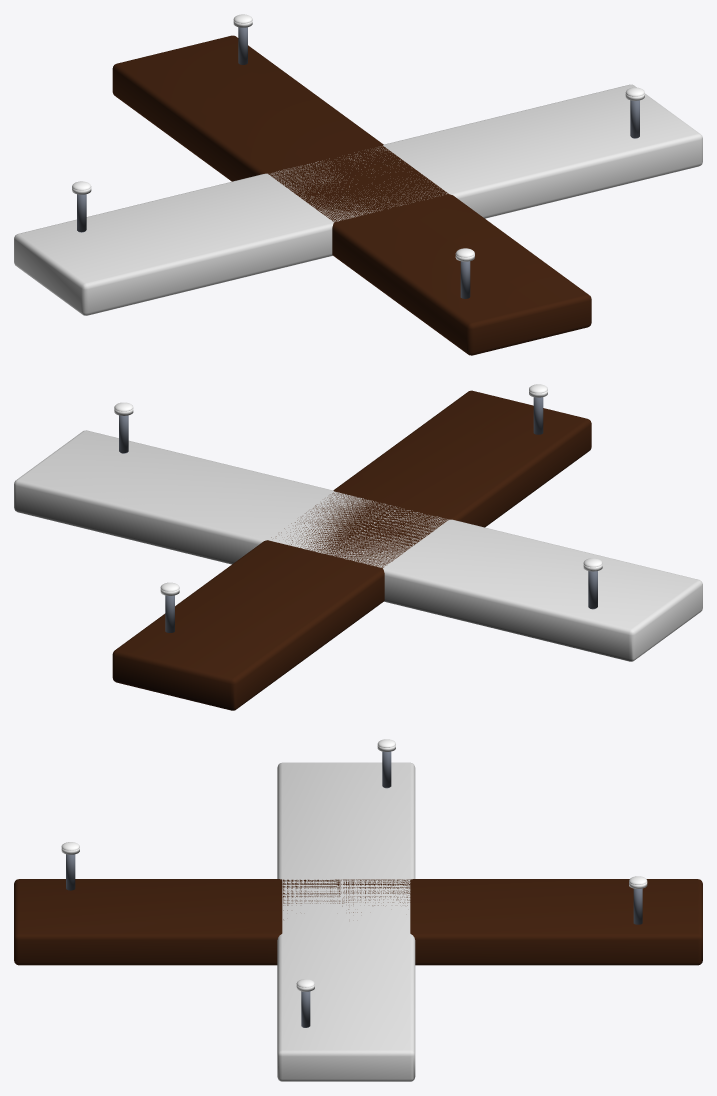
Rendered from wooden-barricade-plank.obj.
3 renders of one model, top to bottom at view 1: azimuth 30°, elevation 25°; view 2: azimuth 150°, elevation 25°; view 3: azimuth 270°, elevation 25°, orthographic. The views are drawn at different scales.
Visible parts, largest first — view 1: wooden-barricade-plank; view 2: wooden-barricade-plank; view 3: wooden-barricade-plank.
Boxes of the visible parts, left/top/right/bottom form: wooden-barricade-plank: left=14, top=14, right=702, bottom=355; wooden-barricade-plank: left=14, top=384, right=702, bottom=710; wooden-barricade-plank: left=14, top=739, right=702, bottom=1081.
Bounding box in the file's own units: 1.7 × 0.2096 × 1.7.
